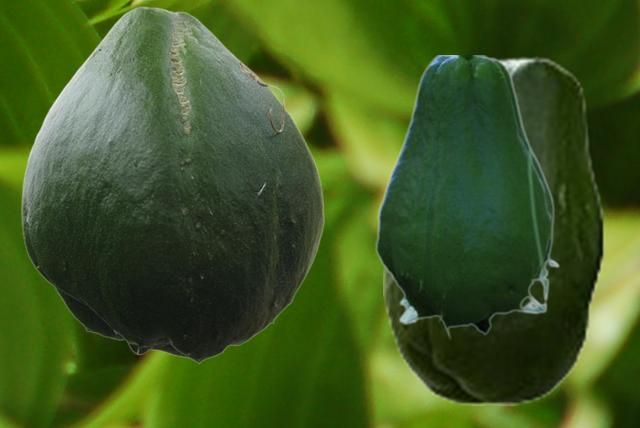sayote: (21, 6, 323, 363), (383, 56, 604, 404), (375, 55, 559, 339)
